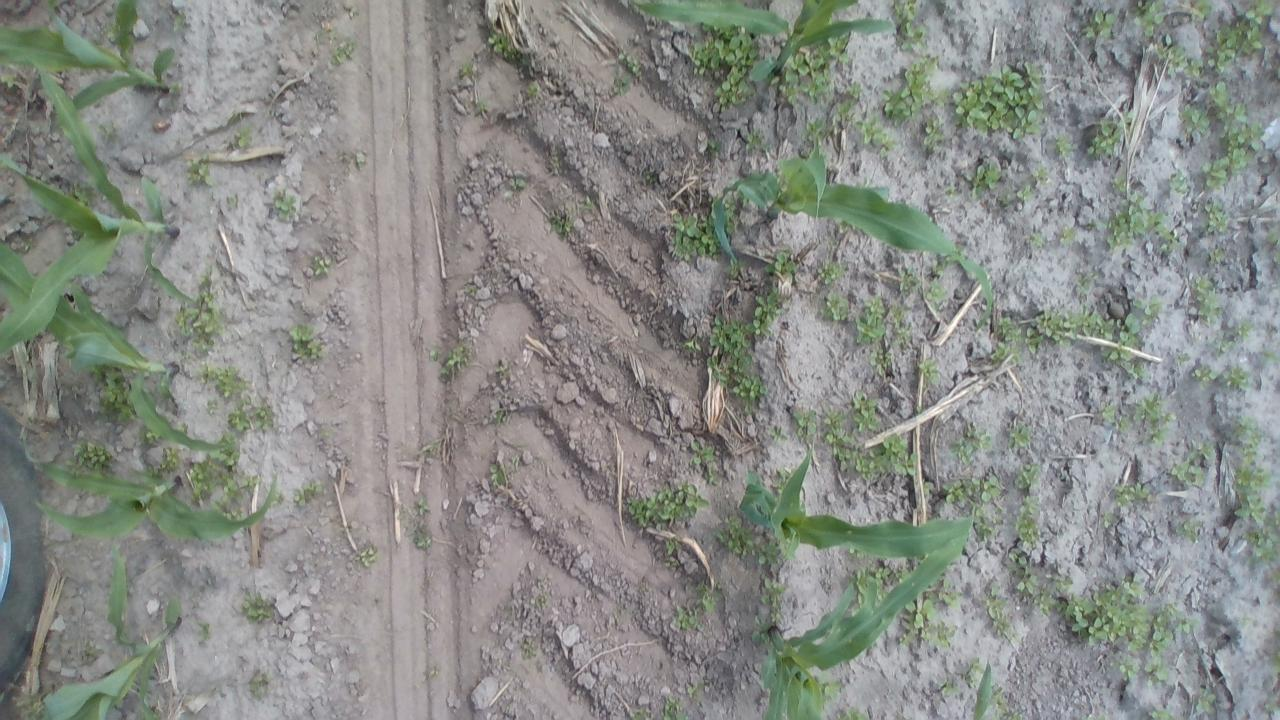Maize: (2, 65, 180, 356), (706, 151, 992, 331), (0, 244, 228, 450), (766, 514, 966, 720), (38, 545, 182, 720), (25, 439, 279, 534), (742, 449, 978, 545), (0, 0, 174, 130), (634, 0, 898, 80), (969, 664, 990, 718)
Weeds: (948, 60, 1045, 140), (1068, 584, 1152, 649), (1208, 81, 1263, 170), (1138, 3, 1200, 75), (1212, 2, 1275, 72), (880, 57, 933, 126), (628, 483, 708, 527), (709, 318, 771, 371), (1036, 308, 1114, 342), (1104, 205, 1159, 246), (1134, 392, 1174, 445), (1234, 462, 1268, 524), (1154, 602, 1196, 652), (828, 410, 864, 468), (668, 213, 712, 257), (1170, 442, 1214, 485), (984, 583, 1014, 635), (893, 0, 922, 49), (855, 300, 888, 342), (1194, 274, 1224, 320), (850, 389, 882, 432), (205, 365, 246, 397), (724, 33, 756, 70), (693, 38, 725, 74), (1242, 525, 1278, 557), (1238, 416, 1263, 460), (895, 264, 920, 306), (968, 474, 1004, 501), (890, 304, 911, 350), (719, 516, 743, 556), (1018, 496, 1038, 544), (822, 290, 852, 322), (764, 583, 786, 623), (1159, 212, 1179, 256), (1085, 10, 1115, 39), (790, 408, 818, 439), (1202, 156, 1229, 188), (996, 319, 1016, 362), (1220, 366, 1250, 391), (966, 166, 988, 200), (1118, 314, 1142, 345), (966, 423, 994, 449), (1088, 128, 1114, 156), (745, 539, 775, 563), (725, 66, 746, 100), (764, 254, 796, 276), (734, 376, 764, 399), (676, 602, 700, 630), (1016, 566, 1040, 594), (245, 594, 268, 622), (950, 436, 974, 462), (1014, 464, 1038, 490), (190, 313, 218, 335), (844, 82, 860, 120), (804, 77, 828, 102), (228, 408, 252, 433), (924, 120, 944, 150), (909, 602, 932, 628), (697, 582, 717, 611), (690, 440, 714, 464), (101, 381, 124, 406), (1144, 657, 1170, 679), (782, 76, 802, 104), (1184, 111, 1208, 134), (488, 33, 511, 57), (1098, 400, 1120, 425), (290, 325, 312, 350), (996, 699, 1022, 720), (858, 116, 879, 142), (1026, 329, 1046, 356), (714, 82, 738, 104), (329, 42, 353, 64), (984, 162, 1002, 191), (662, 694, 682, 720), (1190, 364, 1216, 384), (1206, 210, 1228, 233), (894, 452, 916, 475), (752, 291, 773, 315), (932, 622, 953, 646), (1009, 425, 1029, 450), (1196, 688, 1216, 713), (816, 264, 842, 283), (1052, 134, 1074, 156), (918, 359, 941, 380), (274, 194, 295, 217), (938, 580, 958, 604), (188, 160, 208, 184), (357, 545, 378, 567), (1120, 657, 1141, 679), (86, 443, 108, 464), (1182, 518, 1206, 537), (804, 122, 826, 142), (444, 349, 466, 369), (871, 350, 891, 371), (826, 39, 846, 60), (1116, 484, 1136, 505), (978, 514, 994, 540), (550, 209, 568, 232), (1136, 478, 1154, 501), (221, 478, 238, 502), (745, 130, 766, 149), (877, 136, 895, 158), (248, 670, 266, 692), (254, 402, 272, 424), (72, 440, 88, 464), (883, 434, 902, 454), (1031, 166, 1052, 184), (788, 57, 806, 78), (948, 481, 966, 502), (966, 656, 980, 682), (1265, 224, 1280, 248), (415, 530, 433, 550), (1142, 296, 1160, 316), (926, 276, 940, 300), (854, 459, 876, 474), (1110, 347, 1132, 362), (163, 449, 180, 468), (1078, 272, 1092, 295), (1016, 184, 1032, 204), (314, 255, 329, 276), (665, 539, 683, 556), (490, 463, 506, 482), (236, 127, 252, 146), (616, 72, 631, 92), (1150, 705, 1170, 720), (1175, 173, 1189, 194), (836, 709, 865, 719), (202, 290, 218, 308), (174, 310, 187, 332), (1192, 2, 1212, 16), (686, 681, 704, 696), (944, 181, 962, 196), (305, 480, 320, 498), (242, 477, 258, 493), (1058, 228, 1074, 243), (1111, 179, 1125, 196), (1030, 233, 1044, 250), (1010, 548, 1024, 565), (706, 140, 722, 154), (294, 490, 308, 506), (922, 477, 934, 495), (684, 340, 701, 352), (533, 592, 547, 606), (522, 641, 534, 657), (510, 176, 526, 188), (897, 633, 913, 645), (308, 344, 321, 358), (118, 406, 130, 421), (416, 499, 428, 514), (496, 408, 506, 426), (1104, 514, 1115, 530), (726, 262, 738, 276), (198, 625, 210, 639), (944, 680, 956, 694), (630, 706, 646, 716), (1208, 249, 1220, 262), (892, 565, 906, 576), (706, 356, 718, 368), (919, 626, 930, 639), (527, 85, 537, 99), (207, 398, 217, 412), (876, 568, 888, 579), (74, 190, 88, 199), (460, 64, 470, 76), (1236, 323, 1247, 333), (430, 351, 438, 362), (494, 366, 503, 375)
